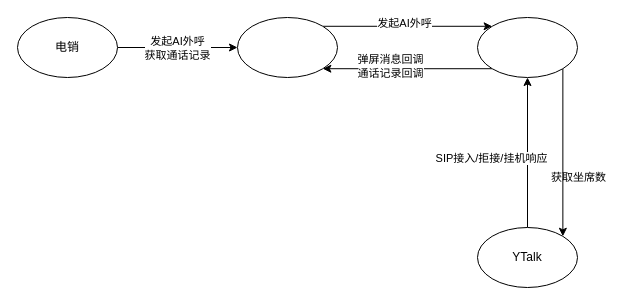
Some shapes in this 623 by 305 pixel diagram are drawn without their labels. Here are the shapes that lost their labels. From the top down, the box of each, then its label:
(236, 16, 338, 78): Notification
(476, 16, 578, 78): 94 AI外呼
